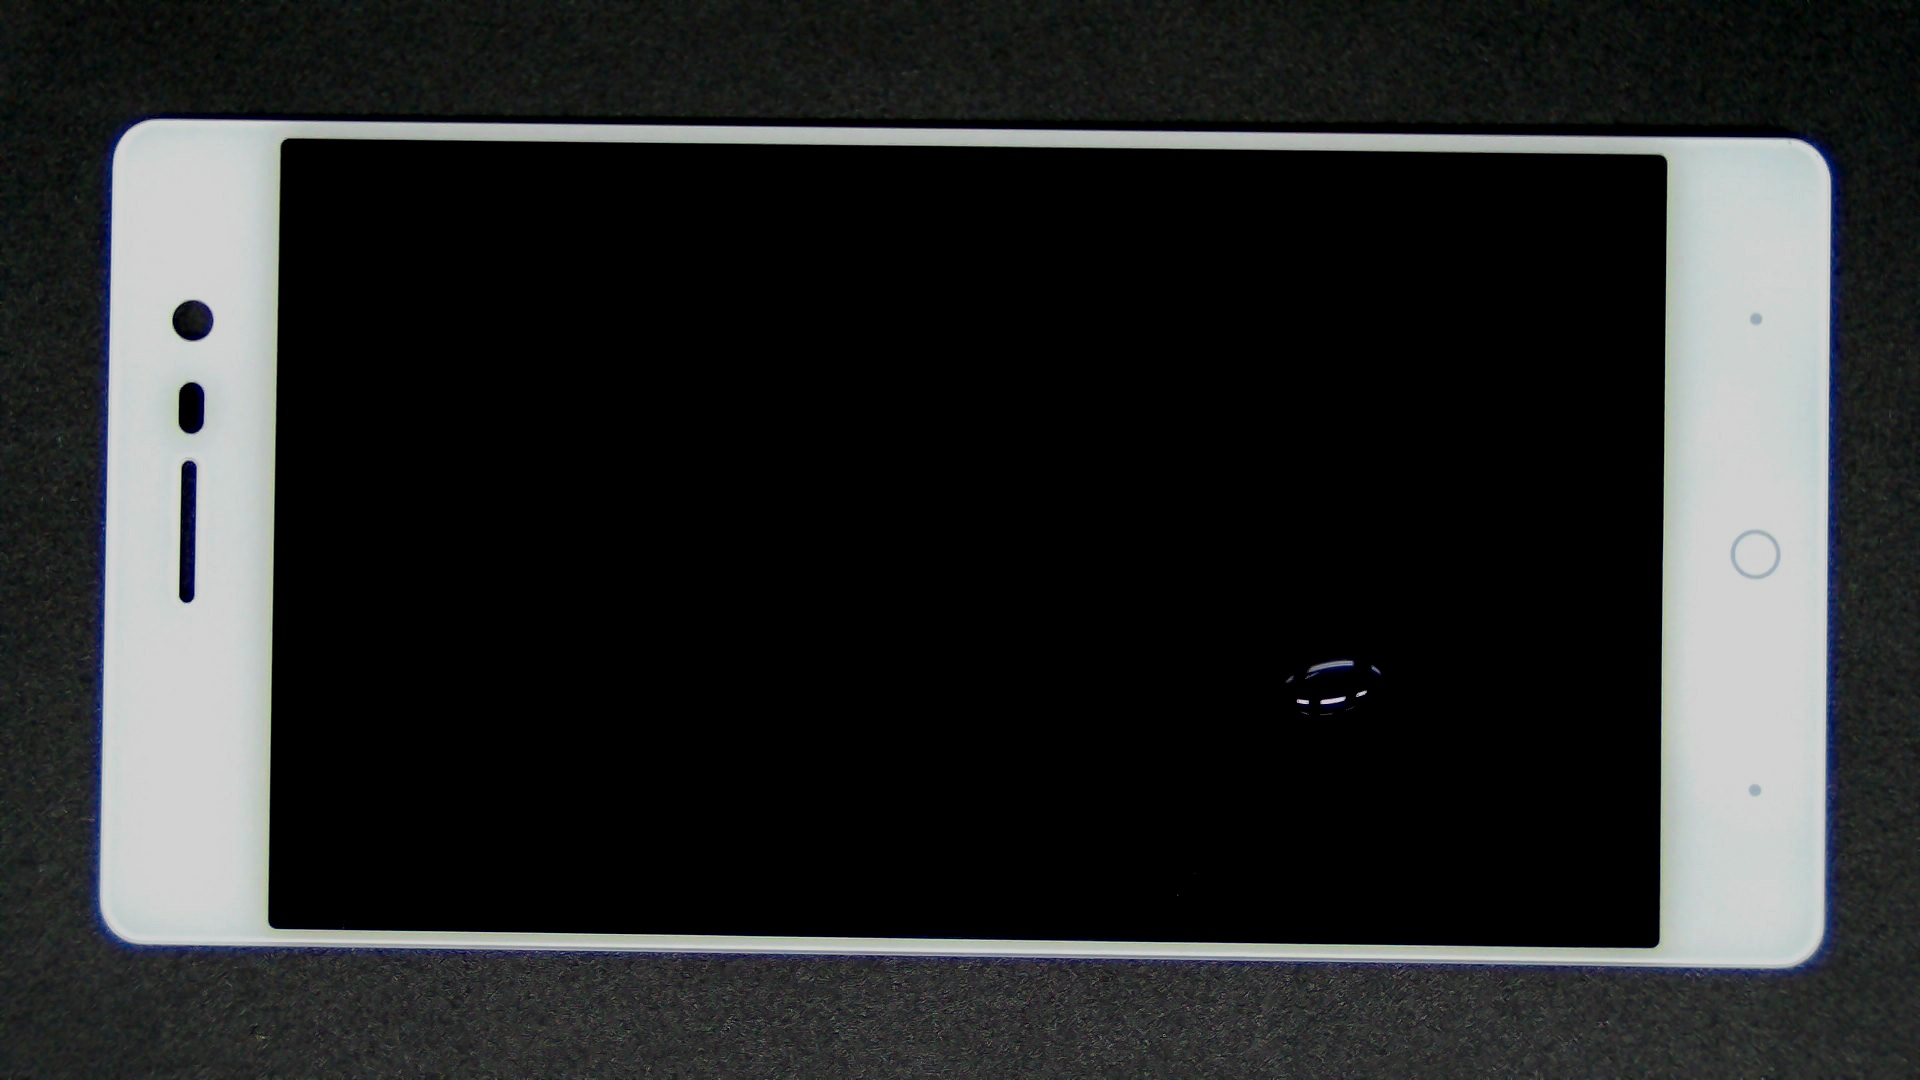oil: (674, 323, 1920, 969)
